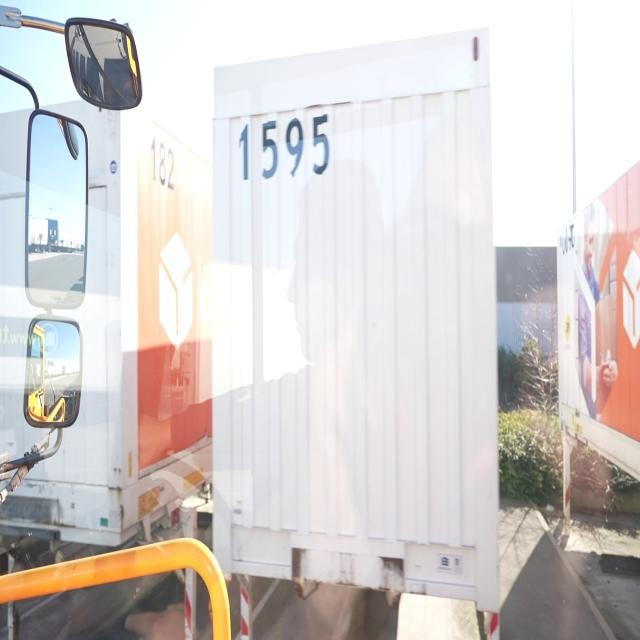Code: (233, 105, 335, 184)
